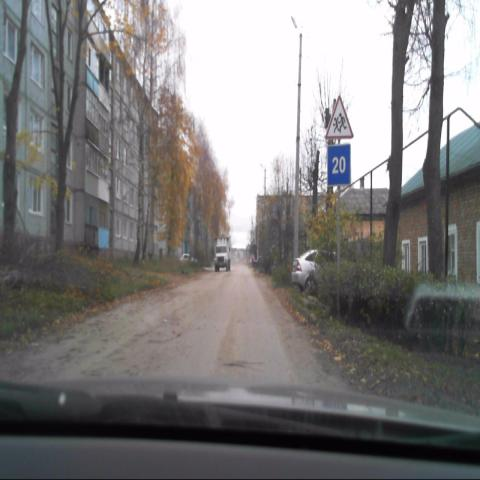1_23: (324, 96, 354, 138)
6_2: (327, 144, 350, 186)
